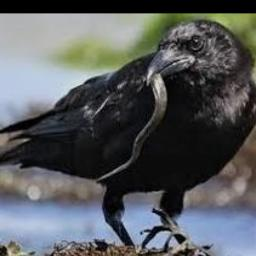Crow: (0, 19, 256, 248)
